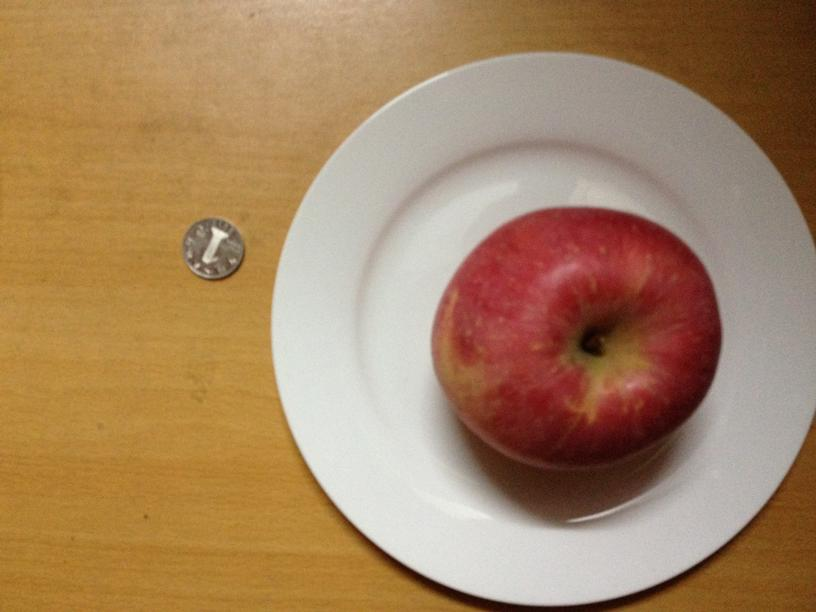apple: (436, 207, 723, 469)
coin: (181, 215, 245, 281)
